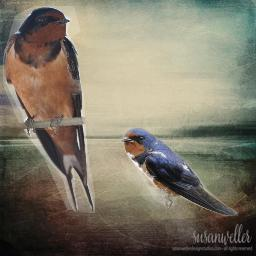Swallow: (3, 6, 95, 213), (120, 127, 238, 216)
